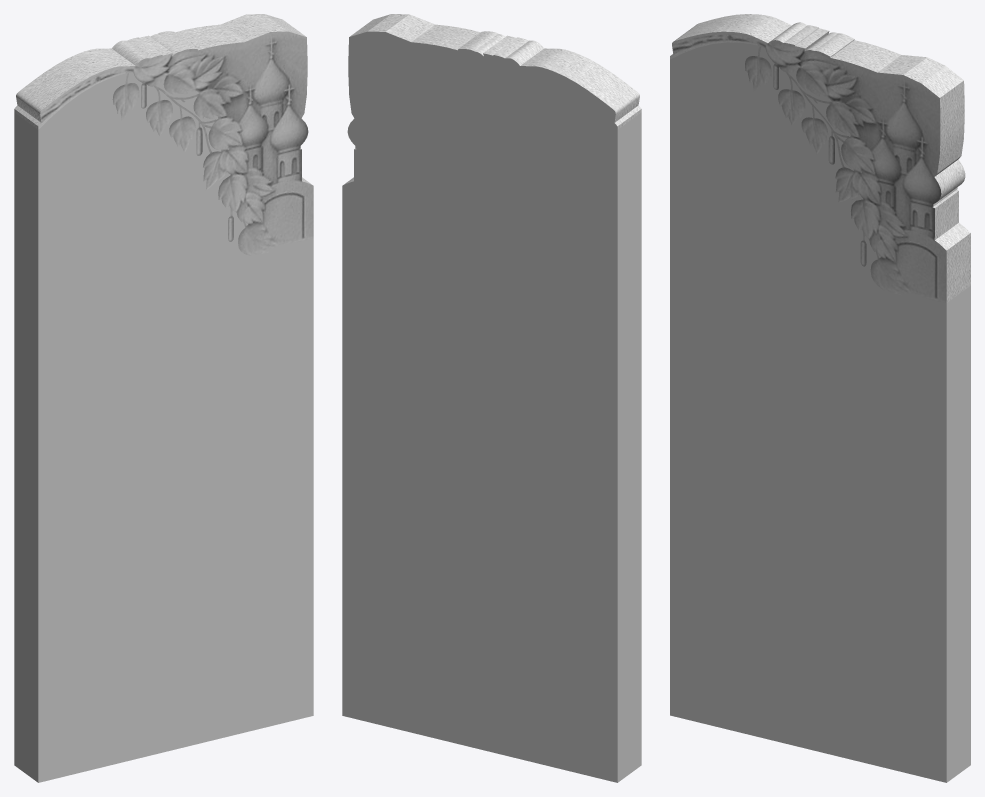
Rendered from cn8a245c92fa_tkf.glb.
3 views of the same model, side by side, from view 1: azimuth 30°, elevation 25°; view 2: azimuth 150°, elevation 25°; view 3: azimuth 330°, elevation 25° (orthographic).
Visible parts, largest first — view 1: Pam-d02-078, Pam-d02-078_2_notexture; view 2: Pam-d02-078, Pam-d02-078_2_notexture; view 3: Pam-d02-078, Pam-d02-078_2_notexture.
Part boxes in pixels (<box>): Pam-d02-078: <box>14,72,313,782</box>; Pam-d02-078_2_notexture: <box>14,14,313,255</box>; Pam-d02-078: <box>342,31,641,782</box>; Pam-d02-078_2_notexture: <box>343,14,641,185</box>; Pam-d02-078: <box>670,42,970,782</box>; Pam-d02-078_2_notexture: <box>670,14,970,303</box>.
Size of the model in its own units: 0.33 by 0.8 by 0.05.
Materials: 1 (1 with a texture image).
